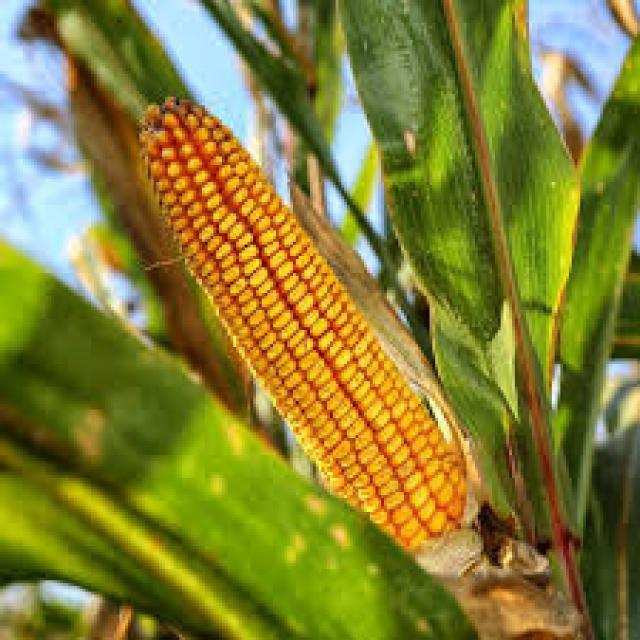purecorn: (119, 76, 501, 558)
